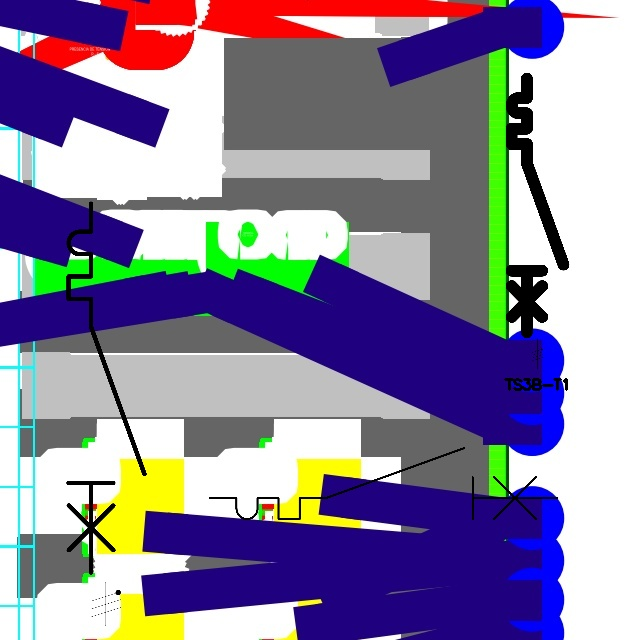interruptor_termomagnetico: (59, 194, 154, 582), (201, 439, 566, 528), (505, 72, 570, 338)
